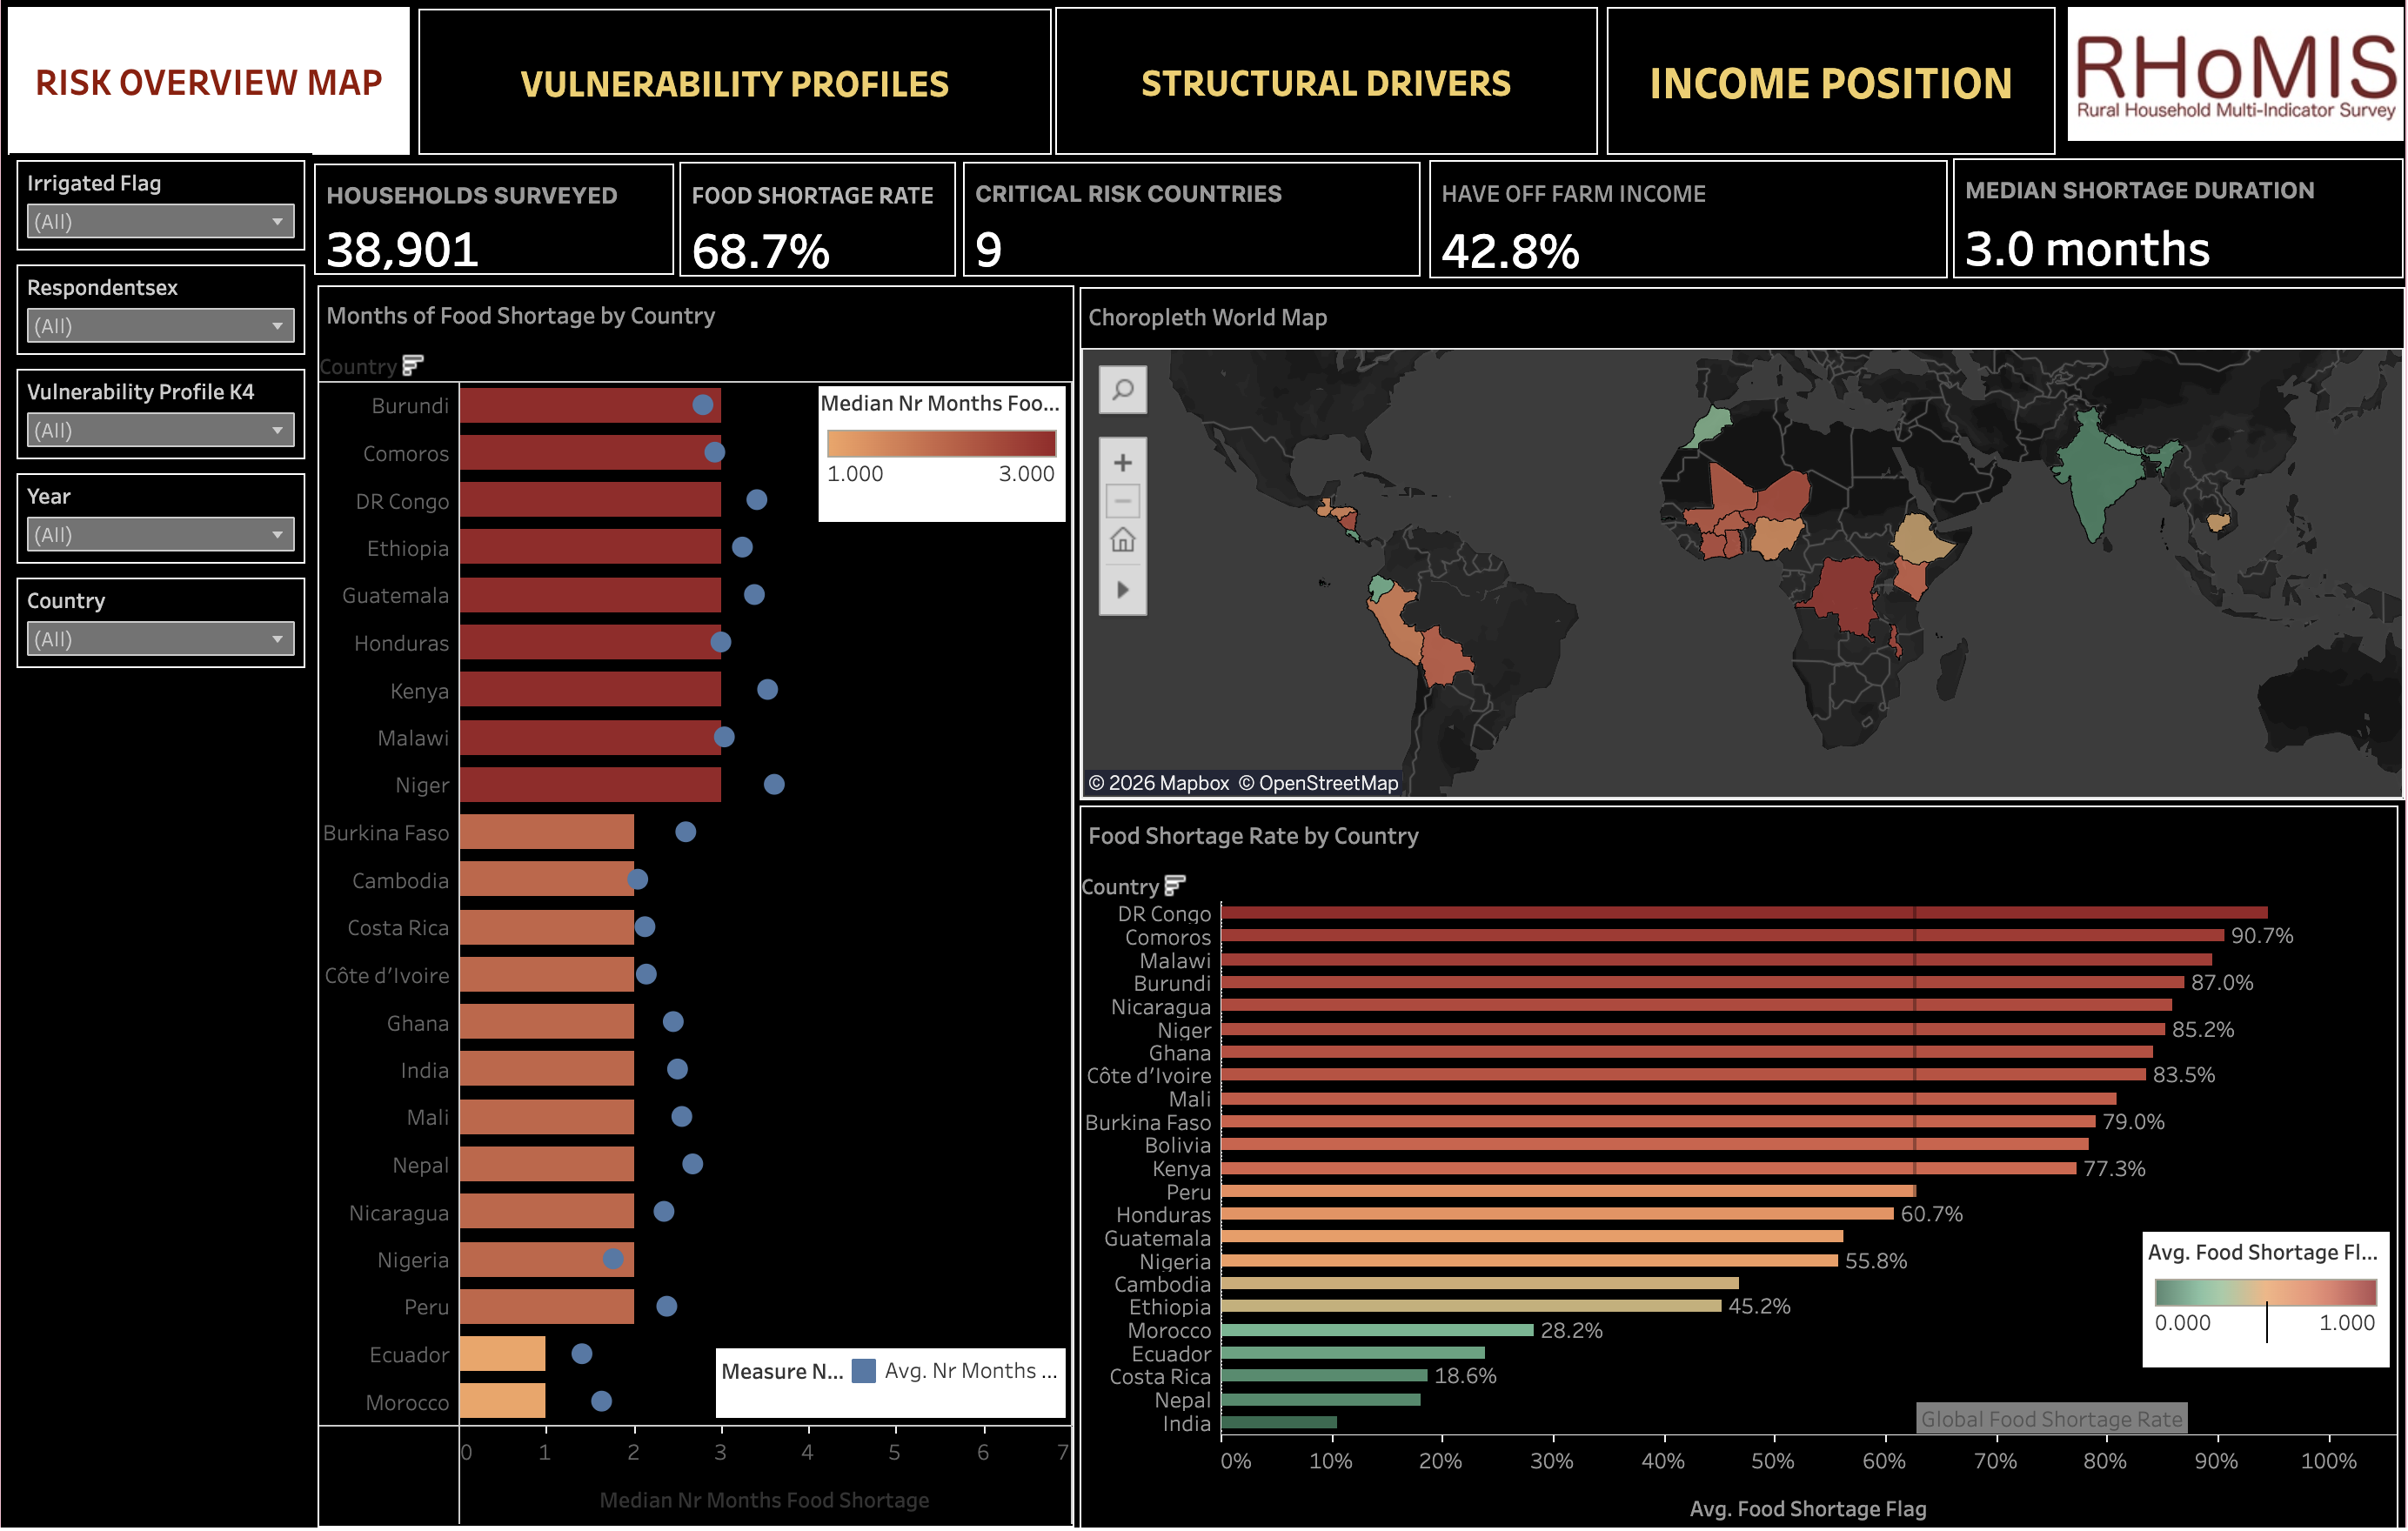

What the dashboard file says about the page in this screenshot:
{"tool":"tableau","page":{"name":"RISK OVERVIEW MAP","canvas":[1400,900],"ordinal":1},"visuals":[{"type":"text","box":[13,13,231,85]},{"type":"dashboard-object","box":[615,13,312,85]},{"type":"dashboard-object","box":[932,13,258,85]},{"type":"image","param":"Image/rhomis-logo.png","box":[1197,13,193,82]},{"type":"dashboard-object","box":[249,14,364,84]},{"type":"filter","title":"KPI1 - HOUSEHOLD SURVEYED","param":"[federated.18g2uha1kfgs62108f3sf1ksln33].[none:irrigated_flag:ok]","box":[14,97,174,54]},{"type":"worksheet","title":"KPI1 - MEDIAN SHORTAGE DURATION","mark":"Automatic","box":[1131,100,259,69]},{"type":"worksheet","title":"KPI1- HAVE OFF FARM INCOME","mark":"Automatic","box":[830,101,298,68]},{"type":"worksheet","title":"KPI1 - FOOD SHORTAGE RATE","mark":"Automatic","box":[399,102,159,66]},{"type":"worksheet","title":"KPI1 - CRITICAL RISK COUNTRIES","mark":"Automatic","box":[562,102,263,66]},{"type":"worksheet","title":"KPI1 - HOUSEHOLD SURVEYED","mark":"Automatic","box":[189,103,207,64]},{"type":"filter","title":"KPI1 - HOUSEHOLD SURVEYED","param":"[federated.18g2uha1kfgs62108f3sf1ksln33].[none:respondentsex:nk]","box":[14,151,174,54]},{"type":"worksheet","title":"Months of Food Shortage by Country","mark":"Bar","rows":["country"],"cols":["nr_months_food_shortage","nr_months_food_shortage"],"box":[191,173,435,714]},{"type":"worksheet","title":"Choropleth World Map","mark":"Multipolygon","box":[629,174,762,295]},{"type":"filter","title":"KPI1 - HOUSEHOLD SURVEYED","param":"[federated.18g2uha1kfgs62108f3sf1ksln33].[none:vulnerability_profile_k4:nk]","box":[14,205,174,54]},{"type":"legend","title":"Months of Food Shortage by Country","param":"[federated.18g2uha1kfgs62108f3sf1ksln33].[med:nr_months_food_shortage:qk]","box":[479,231,142,78]},{"type":"filter","title":"KPI1 - HOUSEHOLD SURVEYED","param":"[federated.18g2uha1kfgs62108f3sf1ksln33].[none:year:ok]","box":[14,259,174,54]},{"type":"filter","title":"KPI1 - HOUSEHOLD SURVEYED","param":"[federated.18g2uha1kfgs62108f3sf1ksln33].[none:country:nk]","box":[14,313,174,54]},{"type":"worksheet","title":"Food Shortage Rate by Country","mark":"Bar","rows":["country"],"cols":["food_shortage_flag"],"box":[629,472,758,419]},{"type":"legend","title":"Choropleth World Map","param":"[federated.18g2uha1kfgs62108f3sf1ksln33].[avg:food_shortage_flag:qk]","box":[1240,717,142,78]},{"type":"legend","title":"Months of Food Shortage by Country","param":"[federated.18g2uha1kfgs62108f3sf1ksln33].[:Measure Names]","box":[420,784,201,40]}]}

Visuals, with their boxes in screenshot pixels (x1, y1, x2, y2), scaled from the page's 1400x900 canvas onto the 2408x1531 screenshot:
text: 23, 22, 419, 167
dashboard-object: 1058, 22, 1595, 167
dashboard-object: 1603, 22, 2047, 167
image: 2059, 22, 2391, 162
dashboard-object: 428, 23, 1054, 167
"KPI1 - HOUSEHOLD SURVEYED" filter: 24, 165, 324, 257
"KPI1 - MEDIAN SHORTAGE DURATION" worksheet: 1945, 170, 2391, 287
"KPI1- HAVE OFF FARM INCOME" worksheet: 1428, 172, 1940, 287
"KPI1 - FOOD SHORTAGE RATE" worksheet: 686, 173, 960, 286
"KPI1 - CRITICAL RISK COUNTRIES" worksheet: 967, 173, 1419, 286
"KPI1 - HOUSEHOLD SURVEYED" worksheet: 325, 175, 681, 284
"KPI1 - HOUSEHOLD SURVEYED" filter: 24, 257, 324, 349
"Months of Food Shortage by Country" worksheet (Bar marks): 329, 294, 1077, 1509
"Choropleth World Map" worksheet (Multipolygon marks): 1082, 296, 2392, 798
"KPI1 - HOUSEHOLD SURVEYED" filter: 24, 349, 324, 440
"Months of Food Shortage by Country" legend: 824, 393, 1068, 525
"KPI1 - HOUSEHOLD SURVEYED" filter: 24, 440, 324, 532
"KPI1 - HOUSEHOLD SURVEYED" filter: 24, 532, 324, 625
"Food Shortage Rate by Country" worksheet (Bar marks): 1082, 803, 2385, 1515
"Choropleth World Map" legend: 2133, 1220, 2377, 1353
"Months of Food Shortage by Country" legend: 722, 1334, 1068, 1401
